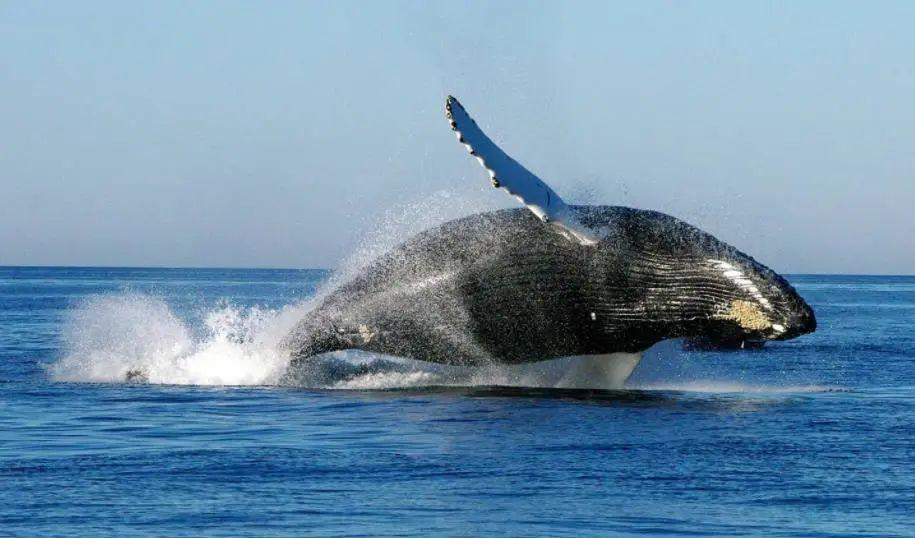fish: (113, 96, 819, 408)
